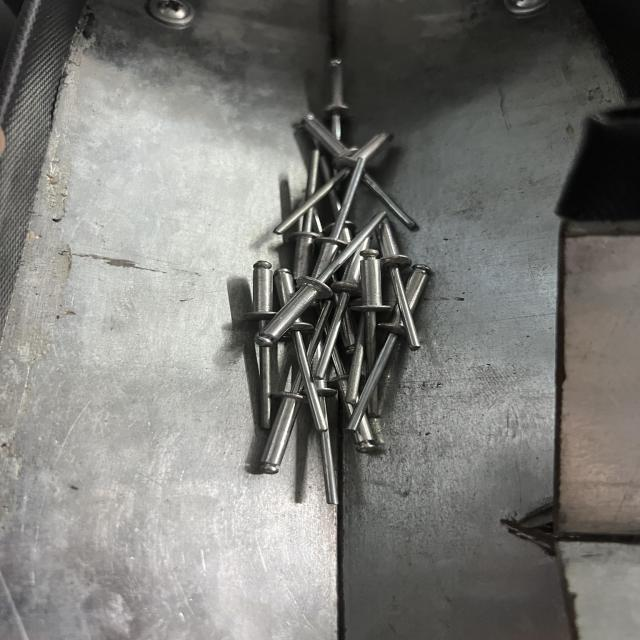rivet: (264, 210, 390, 346), (357, 249, 400, 422)
